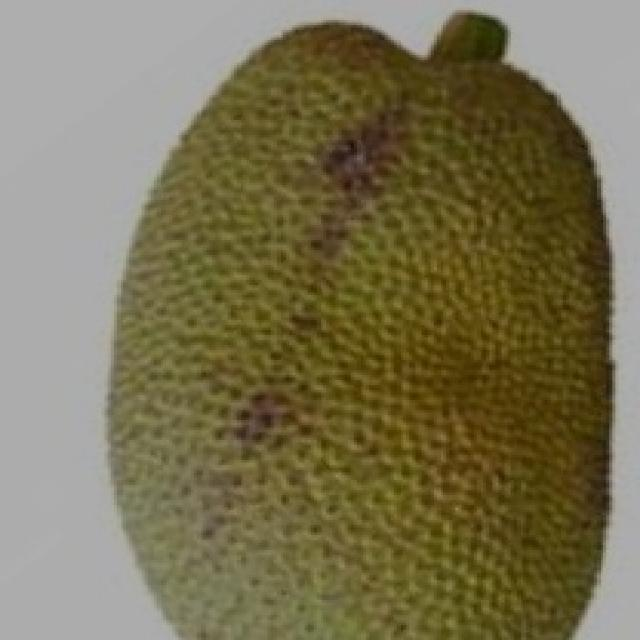Fruit: (74, 0, 474, 448), (252, 250, 640, 638), (224, 0, 640, 312)
